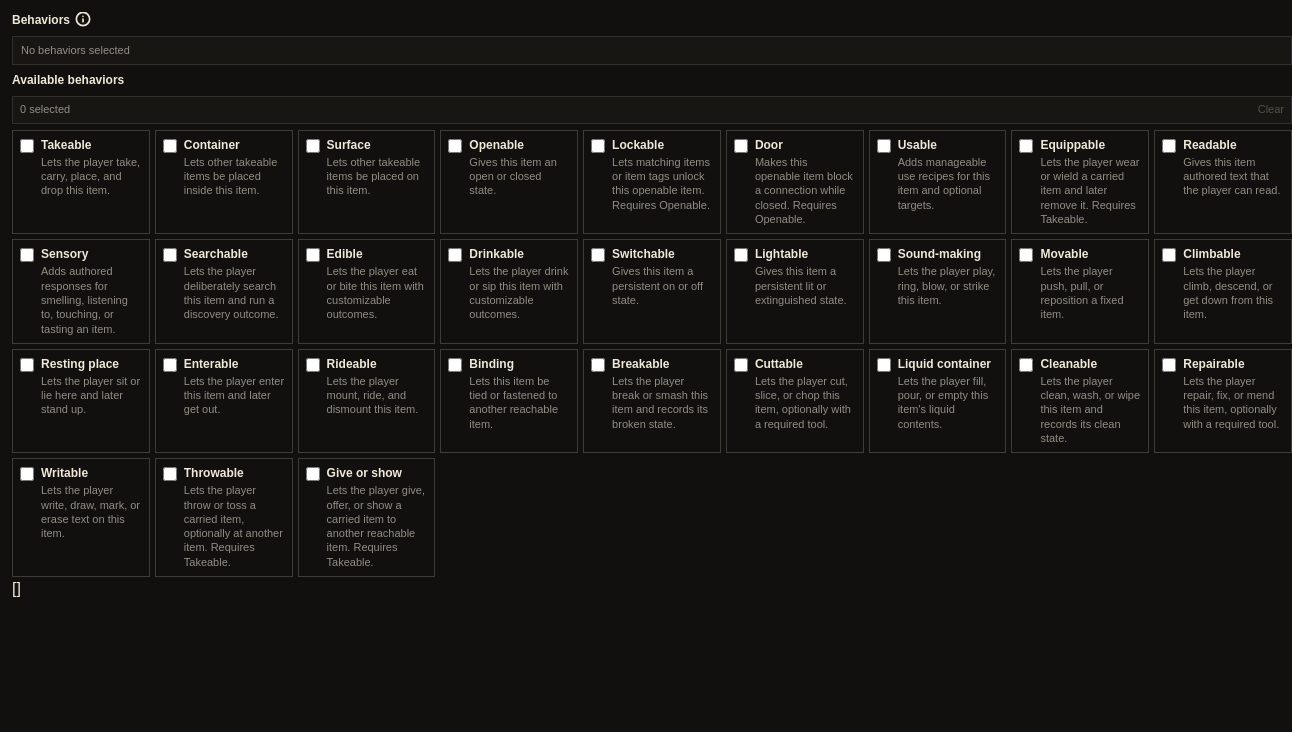
ArrayEditor multi-select arrays › shows every schema-backed behavior and configures selected behaviors
Expected: the text "Lets the player take, carry, place, and drop this item." is shown, [41, 155, 142, 198]
Expected: the checkbox labelled "Container " is shown, [163, 139, 177, 153]
Click the checkbox labelled "Takeable " at (27, 146), box [20, 139, 34, 153]
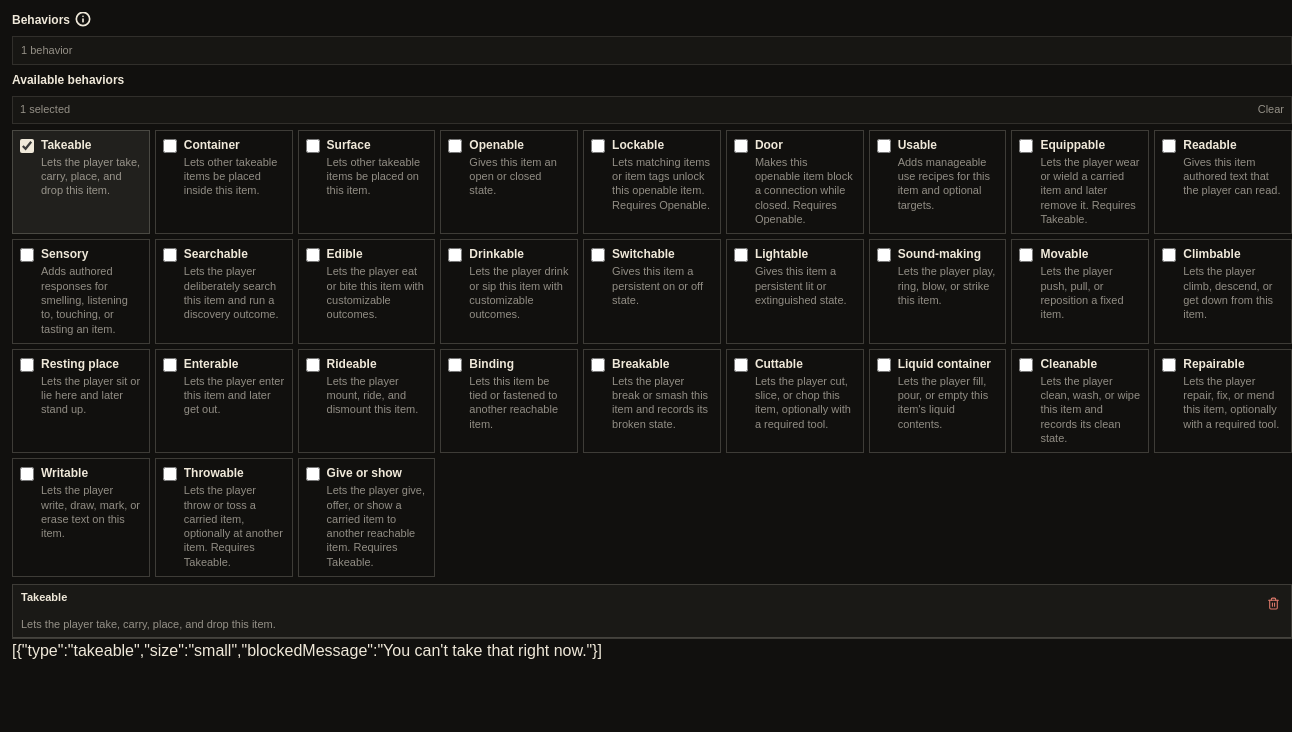
Expected: the text "1 selected" is shown, [20, 104, 70, 115]
Expected: the text with test id "behaviors-value" shows "\"type\":\"takeable\"", [12, 642, 602, 660]
Expected: the element with class "arrayEditor__item" is shown, [12, 584, 1291, 640]
